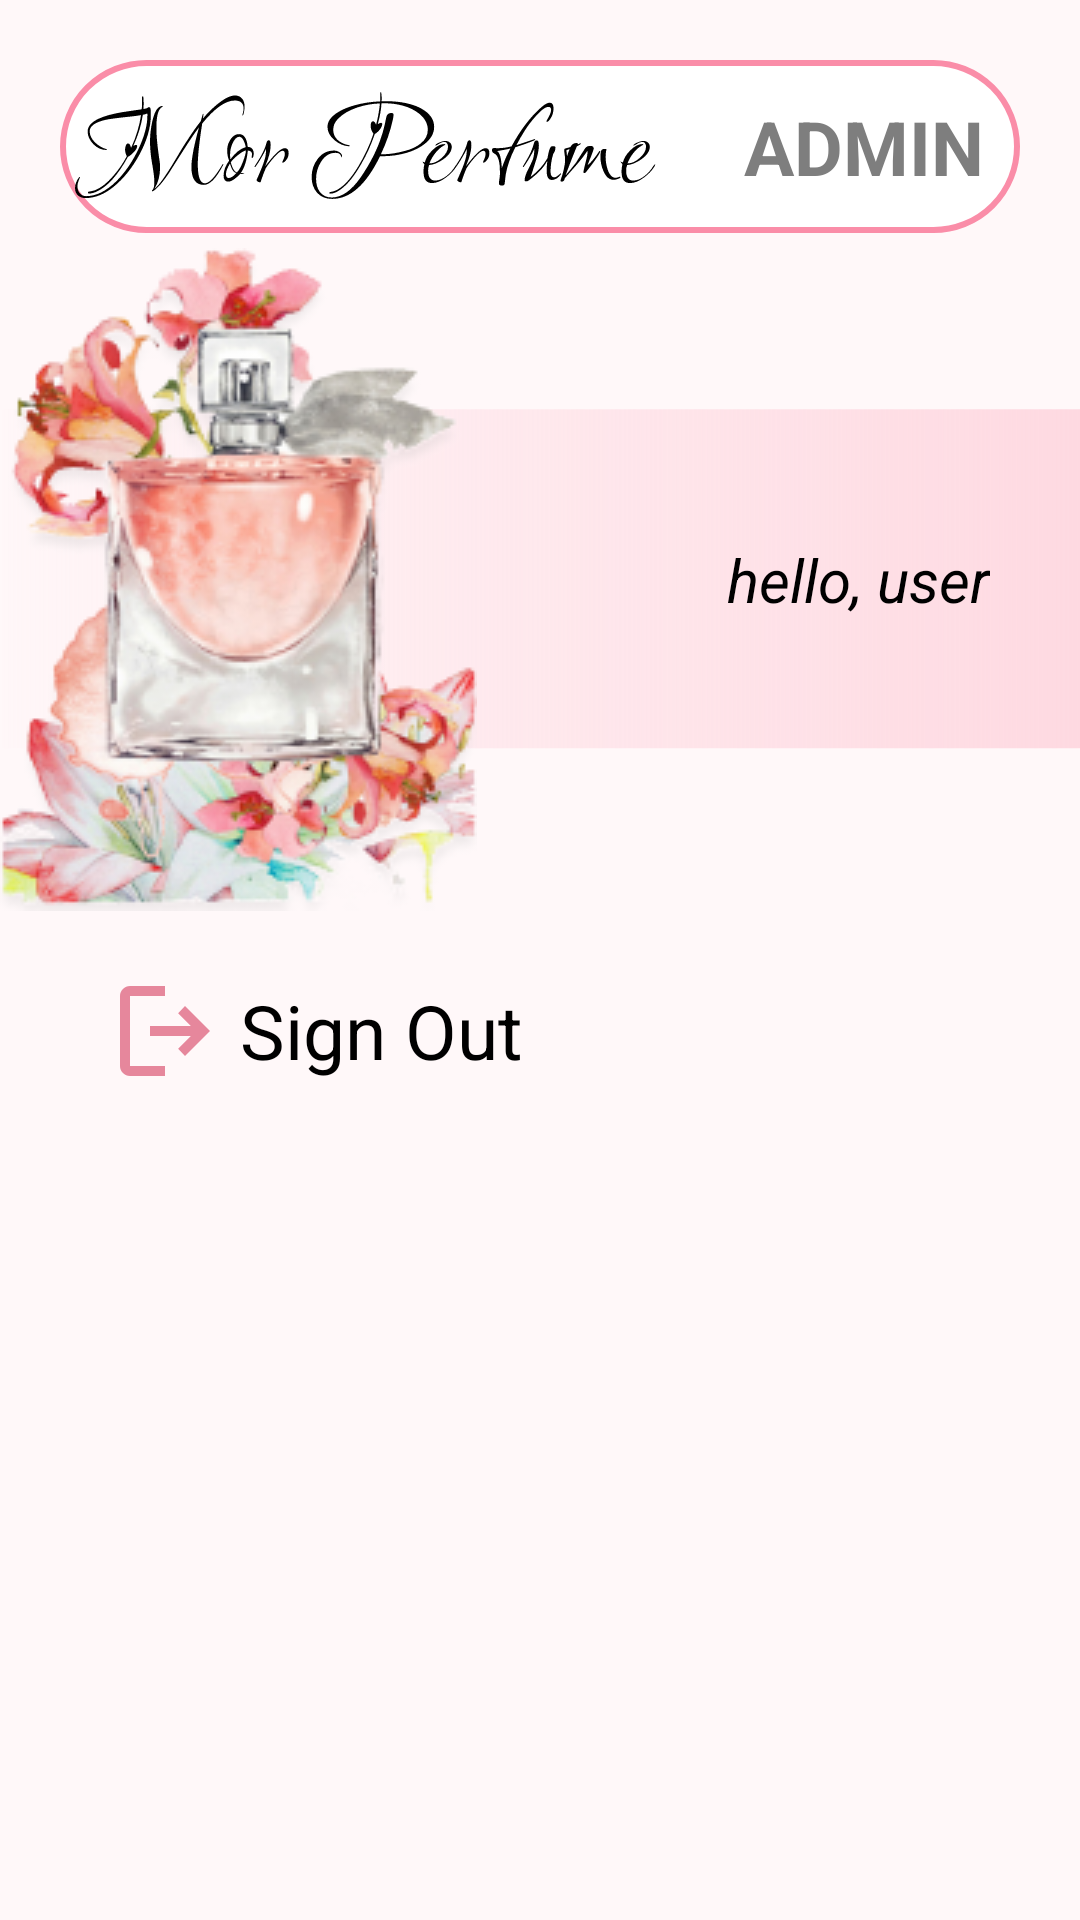

Screen size 1080 x 1920. Icon name, then its box in pixels as [left=x1, top=y1, right=x2, bottom=y2]:
log out: [left=120, top=986, right=210, bottom=1076]
